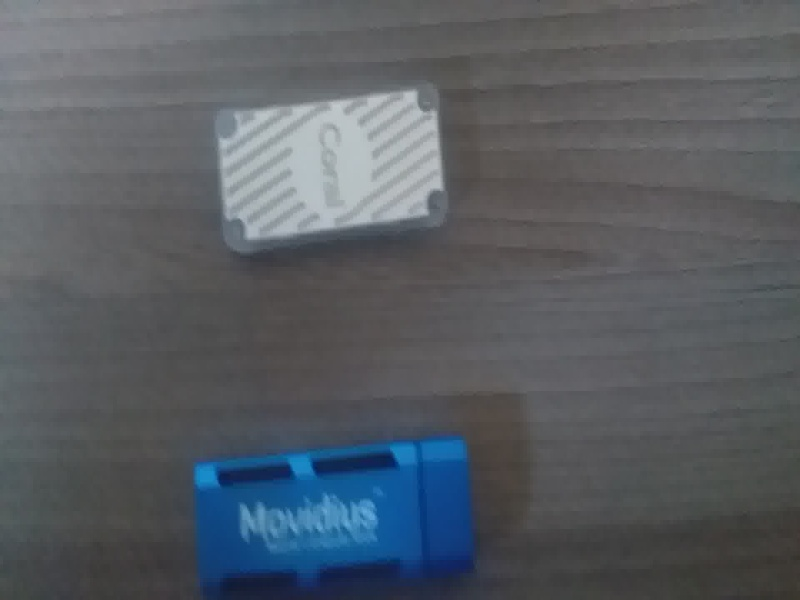coral: (205, 84, 460, 257)
movidius: (181, 435, 481, 588)
